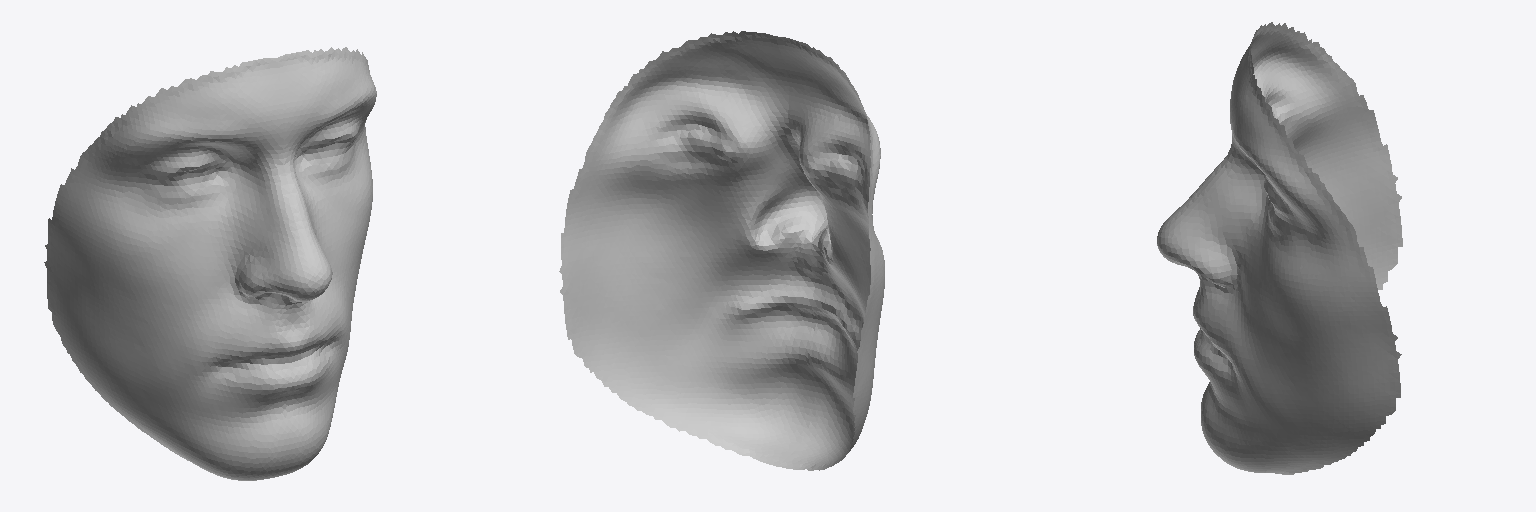
The model's file is SIMPOP_01.obj.
3 views of the same model, side by side, from view 1: azimuth 30°, elevation 25°; view 2: azimuth 150°, elevation 25°; view 3: azimuth 270°, elevation 25° (orthographic).
Parts seen in each view (by area): view 1: SIMPOP_01; view 2: SIMPOP_01; view 3: SIMPOP_01.
Part boxes in pixels (left/top/right/bottom): SIMPOP_01: left=44, top=47, right=376, bottom=480; SIMPOP_01: left=559, top=31, right=884, bottom=470; SIMPOP_01: left=1157, top=22, right=1402, bottom=474.
Bounding box in the file's own units: 140 × 182 × 96.96.